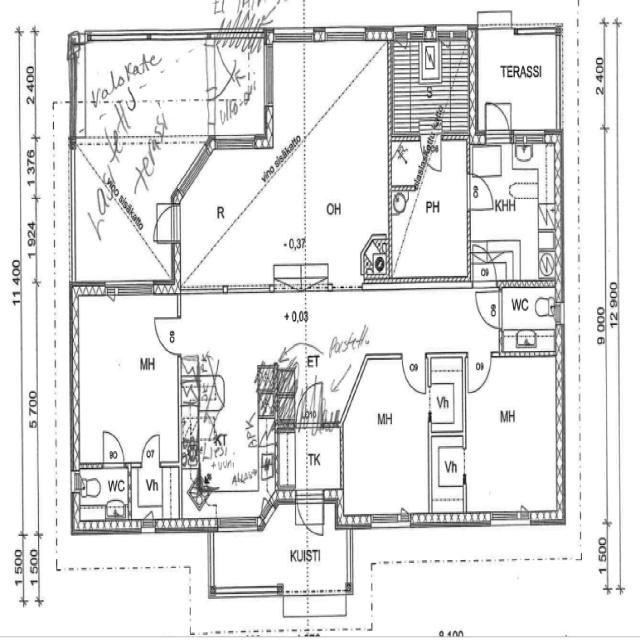door: (296, 488, 325, 542), (150, 312, 184, 358), (150, 198, 181, 248), (482, 97, 514, 145), (465, 169, 499, 214), (399, 349, 429, 399), (465, 351, 493, 395), (474, 284, 501, 327), (101, 428, 126, 468), (140, 429, 163, 468), (140, 504, 158, 536)
window: (65, 142, 81, 274), (550, 29, 567, 129), (316, 18, 372, 46), (210, 510, 263, 539), (104, 275, 154, 305), (90, 25, 160, 46), (219, 276, 273, 300), (366, 510, 414, 534), (487, 504, 531, 530), (216, 129, 256, 152), (515, 20, 558, 38), (324, 276, 364, 295), (478, 14, 515, 34), (514, 126, 549, 146), (258, 492, 273, 526), (438, 23, 468, 35), (68, 467, 79, 495)
zone: (276, 34, 390, 288), (194, 290, 280, 520), (72, 292, 183, 466), (462, 349, 566, 523), (339, 354, 431, 523), (68, 39, 214, 139), (466, 138, 565, 282), (388, 134, 471, 286), (81, 138, 162, 278), (477, 26, 562, 134), (390, 29, 474, 135), (430, 350, 469, 514), (210, 37, 268, 142), (499, 280, 562, 355), (71, 462, 134, 528), (291, 425, 343, 491), (131, 464, 181, 526), (428, 436, 464, 520), (428, 358, 464, 440), (390, 132, 431, 186)
